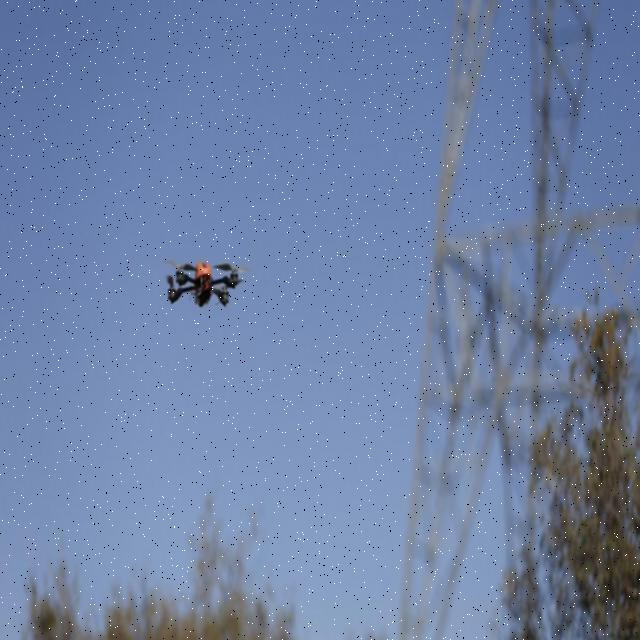UAV: (164, 255, 244, 318)
